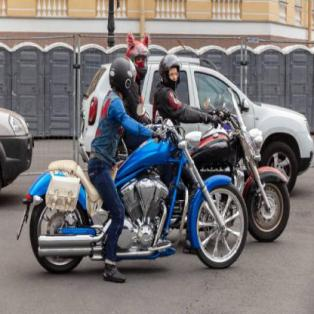Motocicleta: (25, 144, 251, 276), (175, 106, 296, 246)
